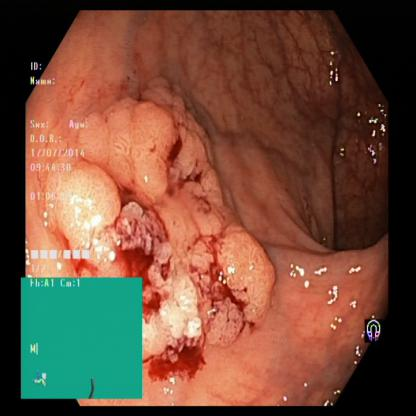Labels: (24, 47, 121, 278), (21, 277, 146, 400)
Polyps: (143, 100, 266, 366), (56, 103, 140, 273)
